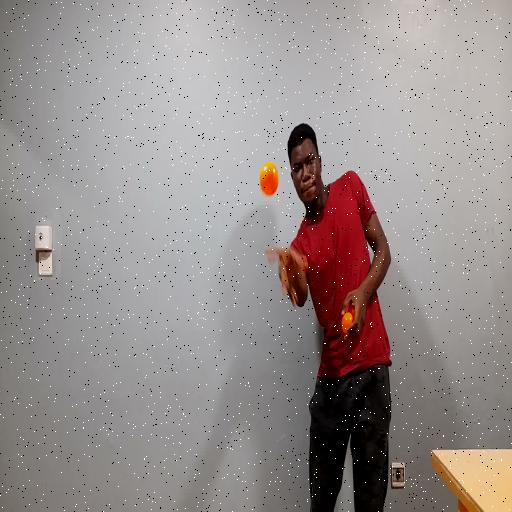plastic-ball: (253, 153, 284, 204)
